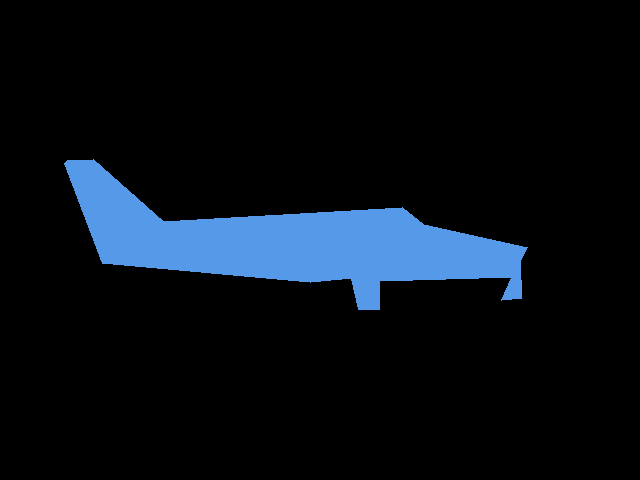Airplane: (64, 159, 528, 310)
